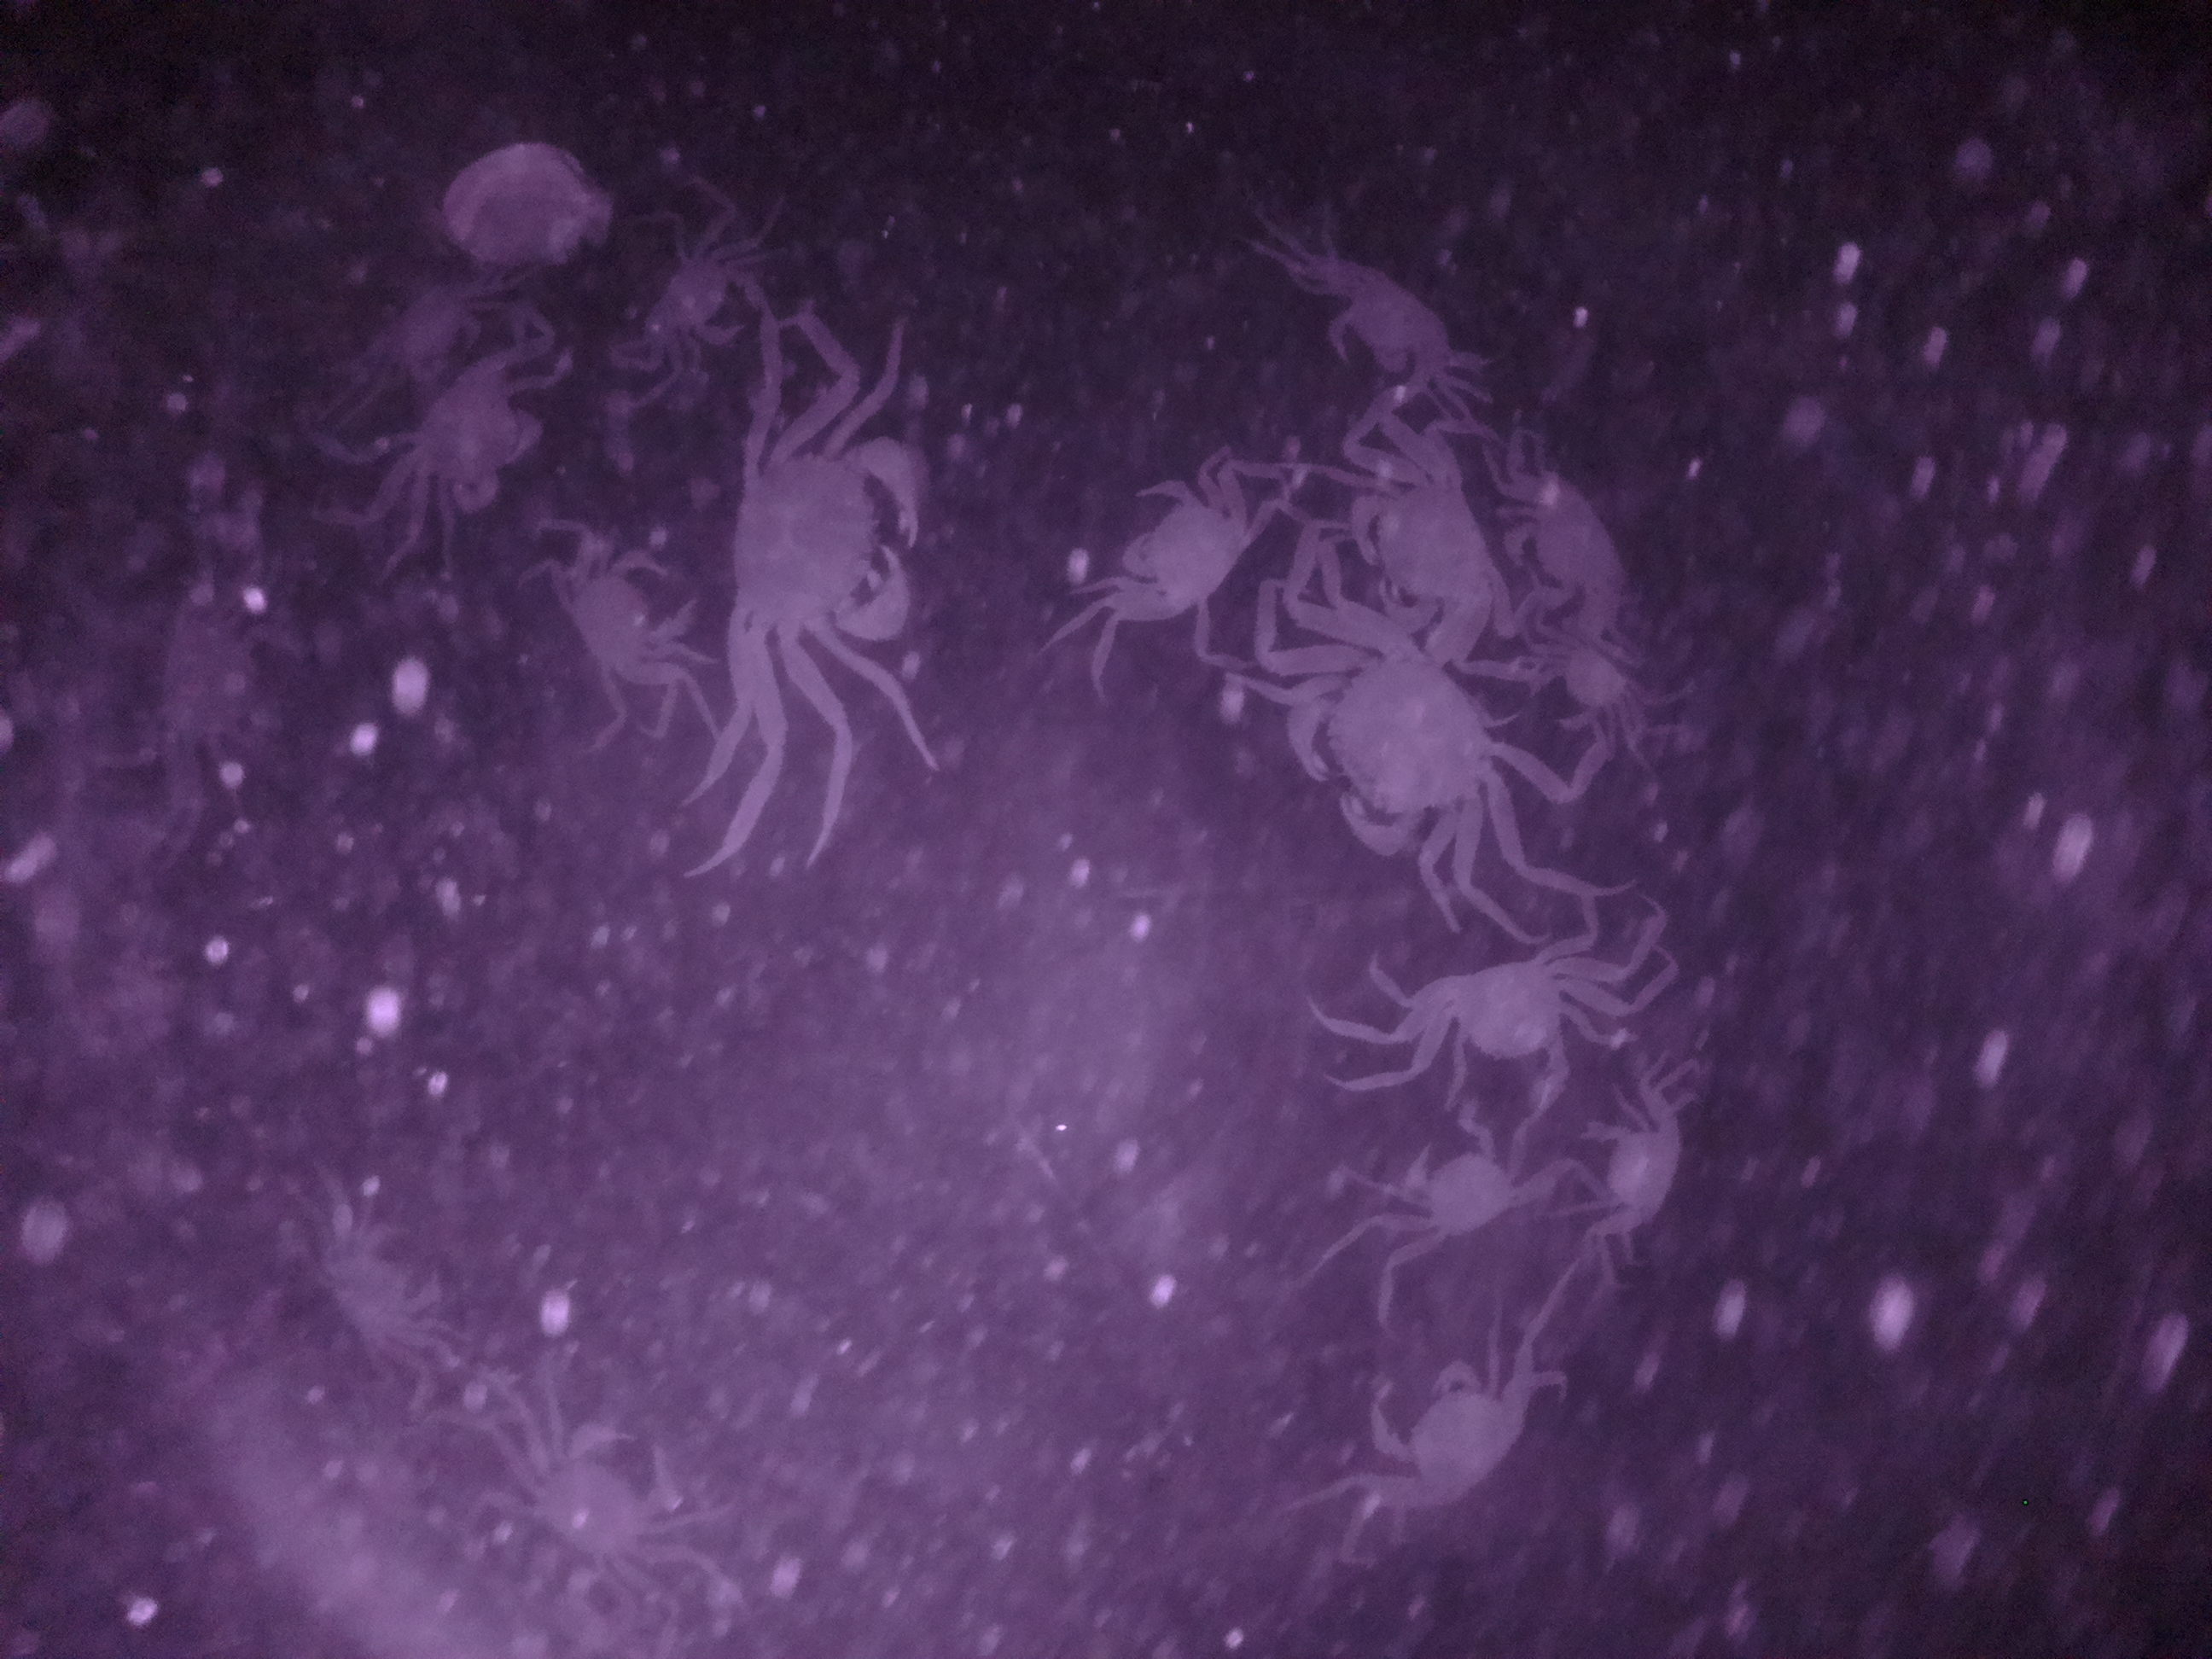Crab: (1275, 591, 1514, 863), (716, 408, 935, 647), (1369, 936, 1597, 1115), (1355, 1328, 1552, 1530), (1089, 443, 1270, 631), (1301, 227, 1479, 394), (556, 521, 698, 720), (1564, 1093, 1695, 1256), (1399, 1110, 1531, 1256), (1524, 620, 1672, 751)
